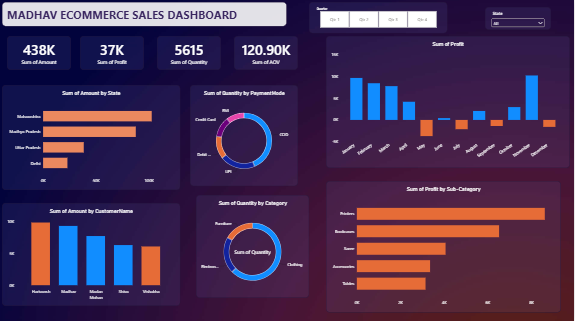

This screenshot's page, from the dashboard's own definition file:
{"tool":"powerbi","page":{"name":"Page 1","canvas":[1920,1080],"ordinal":0},"visuals":[{"type":"columnChart","title":"Sum of Profit","fields":{"Category":["Orders.Order Date.Variation.Date Hierarchy.Month"],"Y":["Sum(Details.Profit)"]},"box":[1092.5,125,812.5,440],"z":0},{"type":"textbox","box":[12.6,12.6,948.7,80.5],"z":1000},{"type":"barChart","fields":{"Category":["Details.Sub-Category"],"Y":["Sum(Details.Profit)"]},"box":[1092.5,610,782.5,437.5],"z":2000},{"type":"donutChart","fields":{"Category":["Details.Category"],"Y":["Sum(Details.Quantity)"]},"box":[660,657.5,376.7,343.3],"z":3000},{"type":"donutChart","fields":{"Category":["Details.PaymentMode"],"Y":["Sum(Details.Quantity)"]},"box":[639.2,289.4,360,336.7],"z":4000},{"type":"card","fields":{"Values":["Sum(Details.Amount)"]},"box":[30.2,125.8,213.3,113.3],"z":5000},{"type":"card","fields":{"Values":["Sum(Details.Profit)"]},"box":[274.3,125.8,213.3,113.3],"z":6000},{"type":"card","fields":{"Values":["Sum(Details.Quantity)"]},"box":[531,125.8,213.3,113.3],"z":7000},{"type":"card","fields":{"Values":["Sum(Details.AOV)"]},"box":[785.1,125.8,213.3,113.3],"z":8000},{"type":"barChart","fields":{"Category":["Orders.State"],"Y":["Sum(Details.Amount)"]},"box":[12.6,289.4,593.9,349.8],"z":9000},{"type":"columnChart","fields":{"Category":["Orders.CustomerName"],"Y":["Sum(Details.Amount)"]},"box":[13,682,594,343],"z":10000},{"type":"slicer","fields":{"Values":["Orders.Order Date.Variation.Date Hierarchy.Quarter"]},"box":[1037.1,12.9,461.4,104.3],"z":11000},{"type":"slicer","fields":{"Values":["Orders.State"]},"box":[1624.3,28.6,220,75.7],"z":11001}]}

Visuals, with their boxes in screenshot pixels (x1, y1, x2, y2), scaled from the page's 1920x1080 canvas onto the 575x321 screenshot:
"Sum of Profit" columnChart: [327,37,571,168]
textbox: [4,4,288,28]
barChart - Details.Sub-Category x Sum(Details.Profit): [327,181,562,311]
donutChart - Details.Category x Sum(Details.Quantity): [198,195,310,297]
donutChart - Details.PaymentMode x Sum(Details.Quantity): [191,86,299,186]
card - Sum(Details.Amount): [9,37,73,71]
card - Sum(Details.Profit): [82,37,146,71]
card - Sum(Details.Quantity): [159,37,223,71]
card - Sum(Details.AOV): [235,37,299,71]
barChart - Orders.State x Sum(Details.Amount): [4,86,182,190]
columnChart - Orders.CustomerName x Sum(Details.Amount): [4,203,182,305]
slicer - Orders.Order Date.Variation.Date Hierarchy.Quarter: [311,4,449,35]
slicer - Orders.State: [486,9,552,31]
